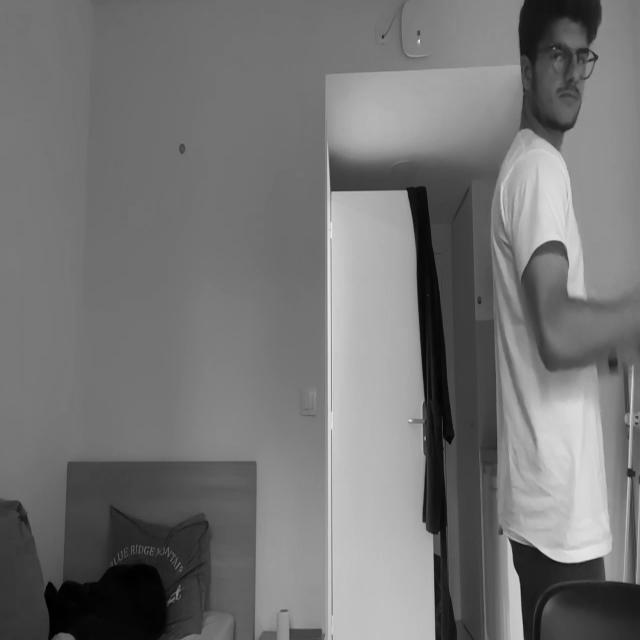elbow: (536, 291, 575, 373)
shoulder: (508, 142, 570, 241)
